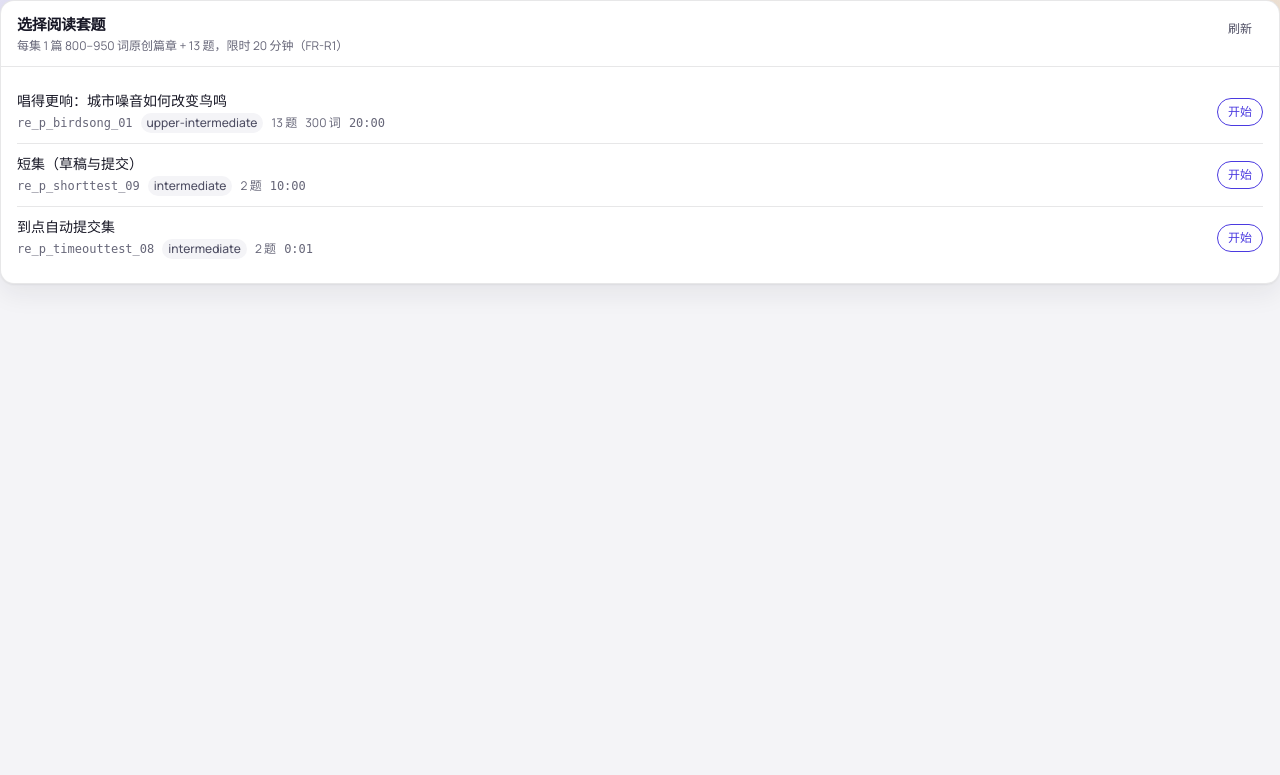
定位（AC-R2） › 判断题按题干实词定位到段落并高亮
Click the button "开始" in the row of "唱得更响：城市噪音如何改变鸟鸣": (1240, 112) [1217,98,1263,126]
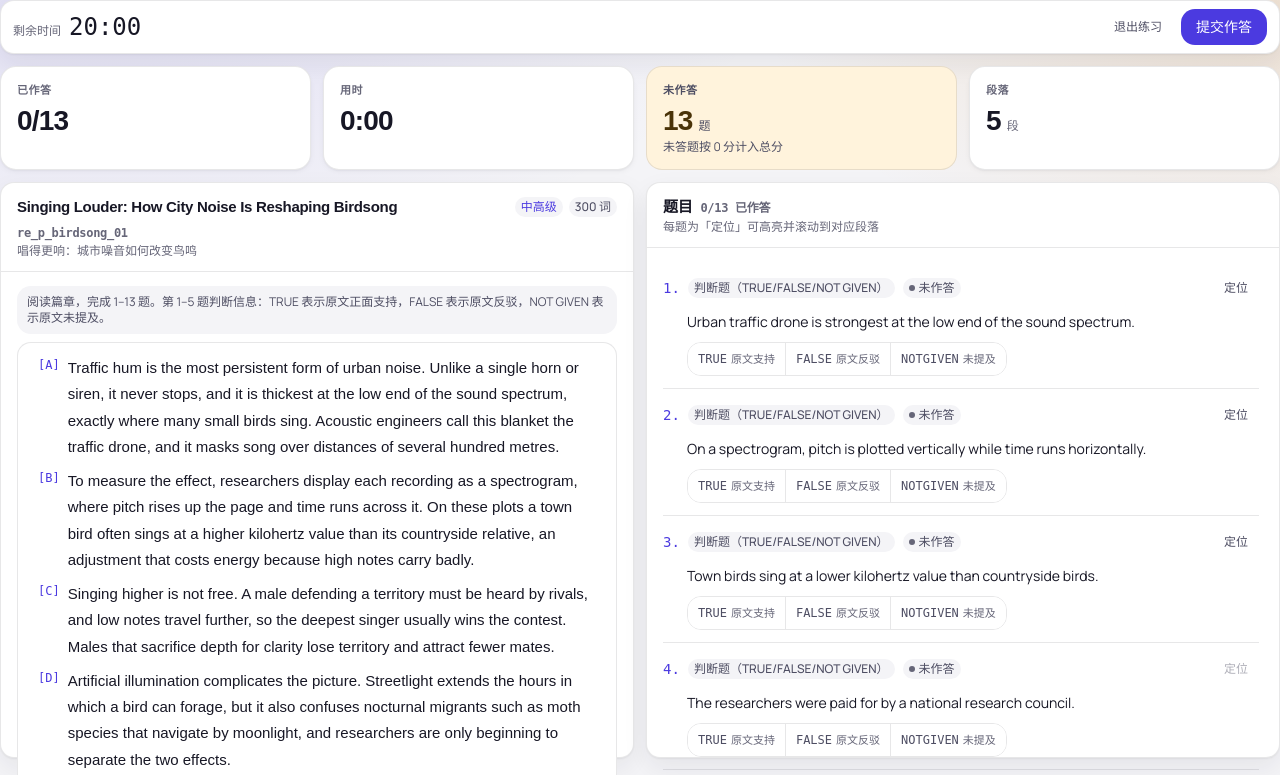
Click the button with aria-label "定位第 1 题到段落": (1236, 288) [1213,274,1259,302]
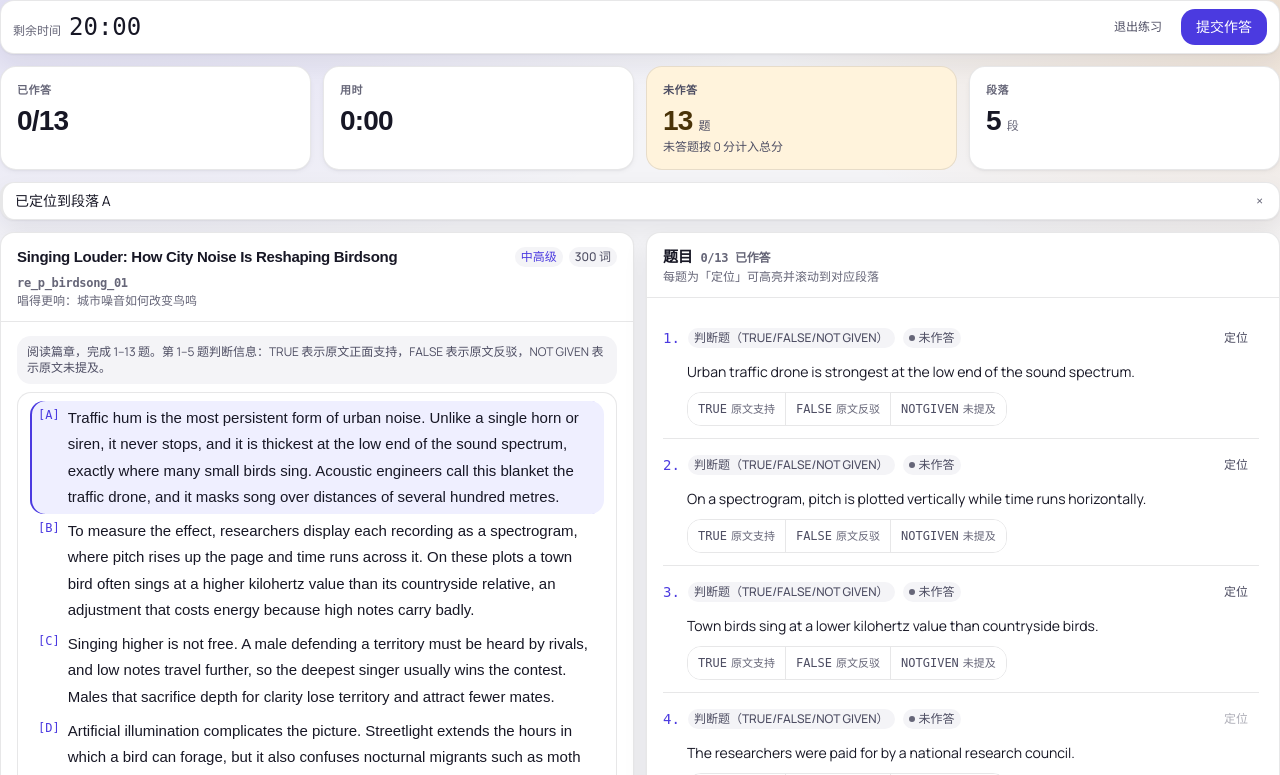
Expected: the text "已定位到段落 A" is shown, [15,191,111,210]
